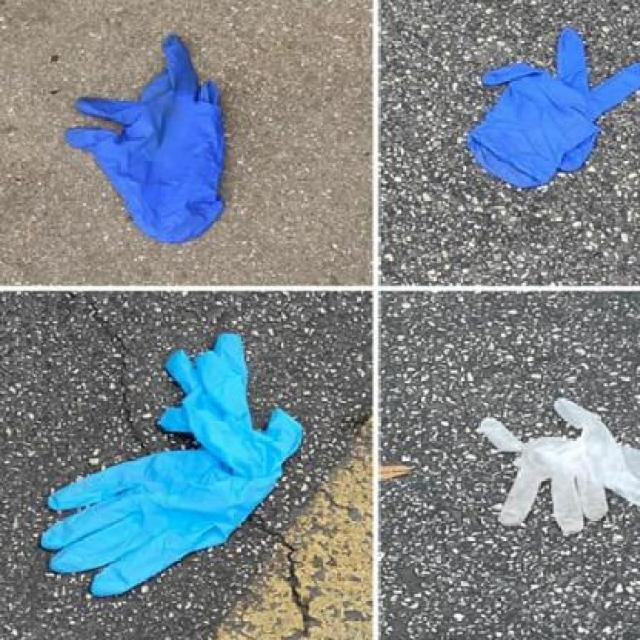glove_hand: (32, 324, 326, 607), (458, 23, 640, 225), (66, 30, 235, 246), (458, 388, 640, 574)
